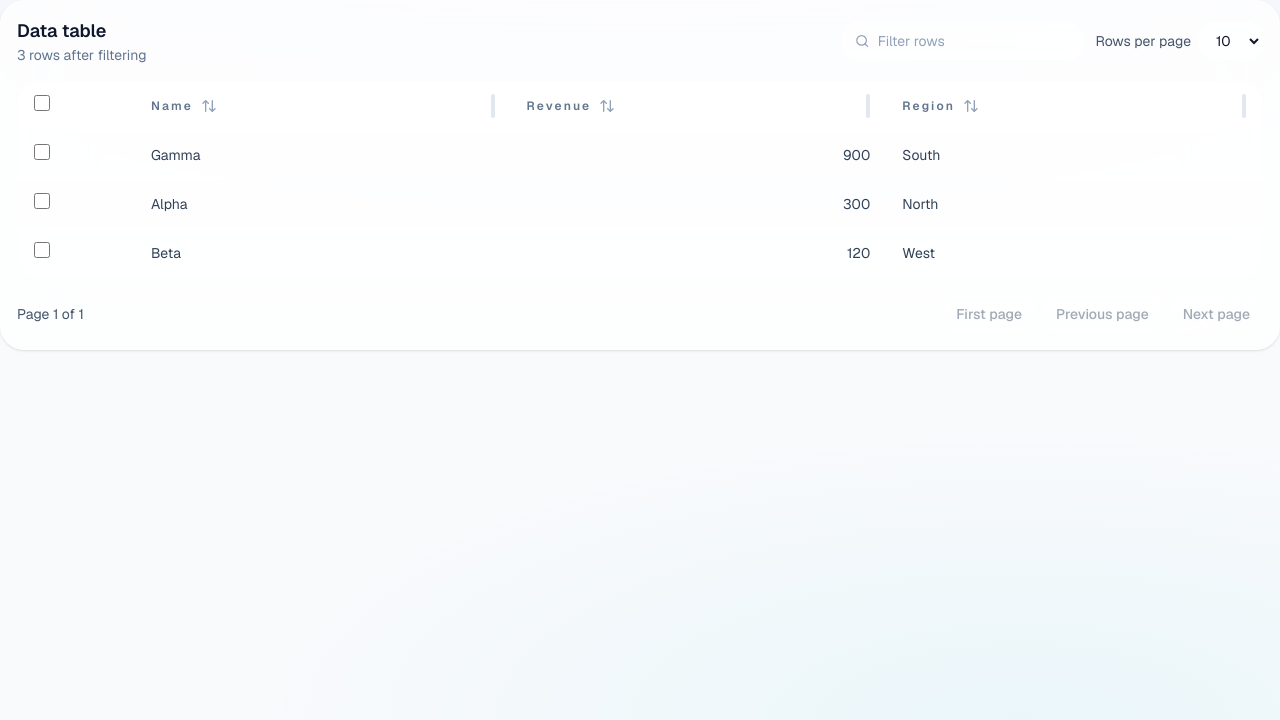
Scenario: DataTableEnhanced › filters to an empty state when no rows match
The width and height of the screenshot is (1280, 720).
Type "zzz" into the field labelled "Filter rows".
click(974, 41); type("zzz")  # box x1=878 y1=31 x2=1070 y2=51
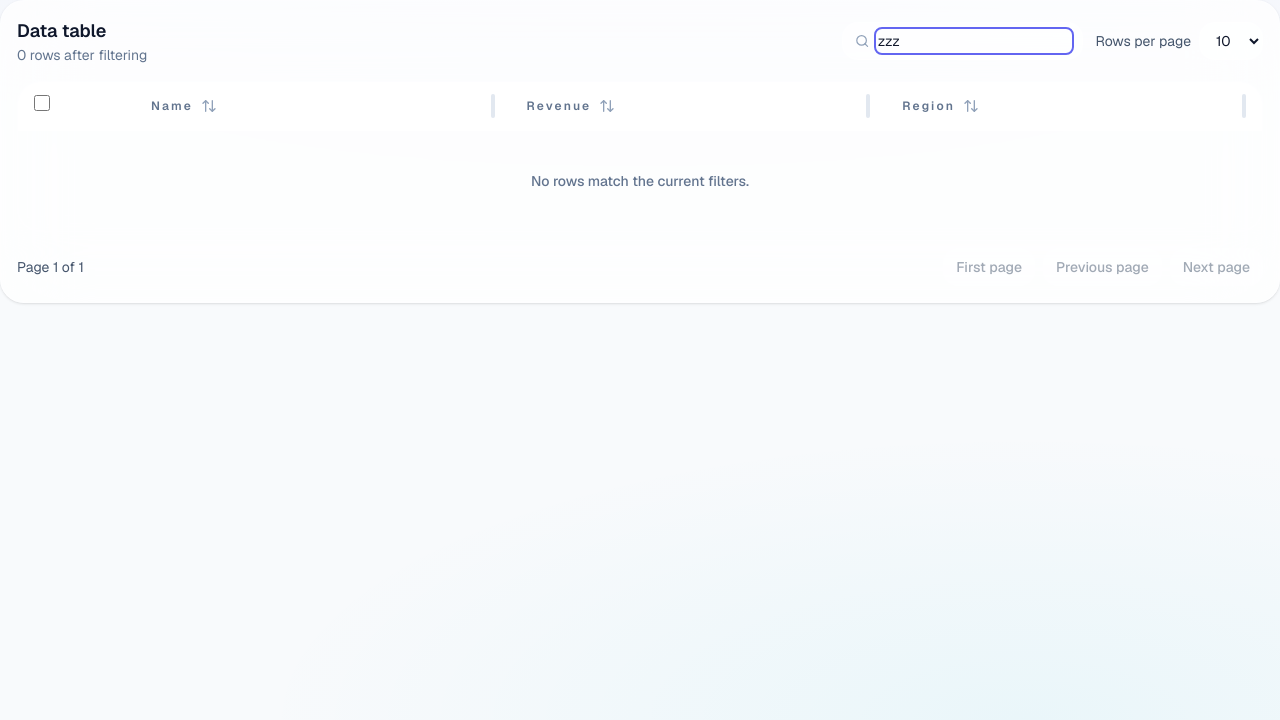
Check: the text "No rows match the current filters." is shown, box x1=18 y1=131 x2=1262 y2=231
